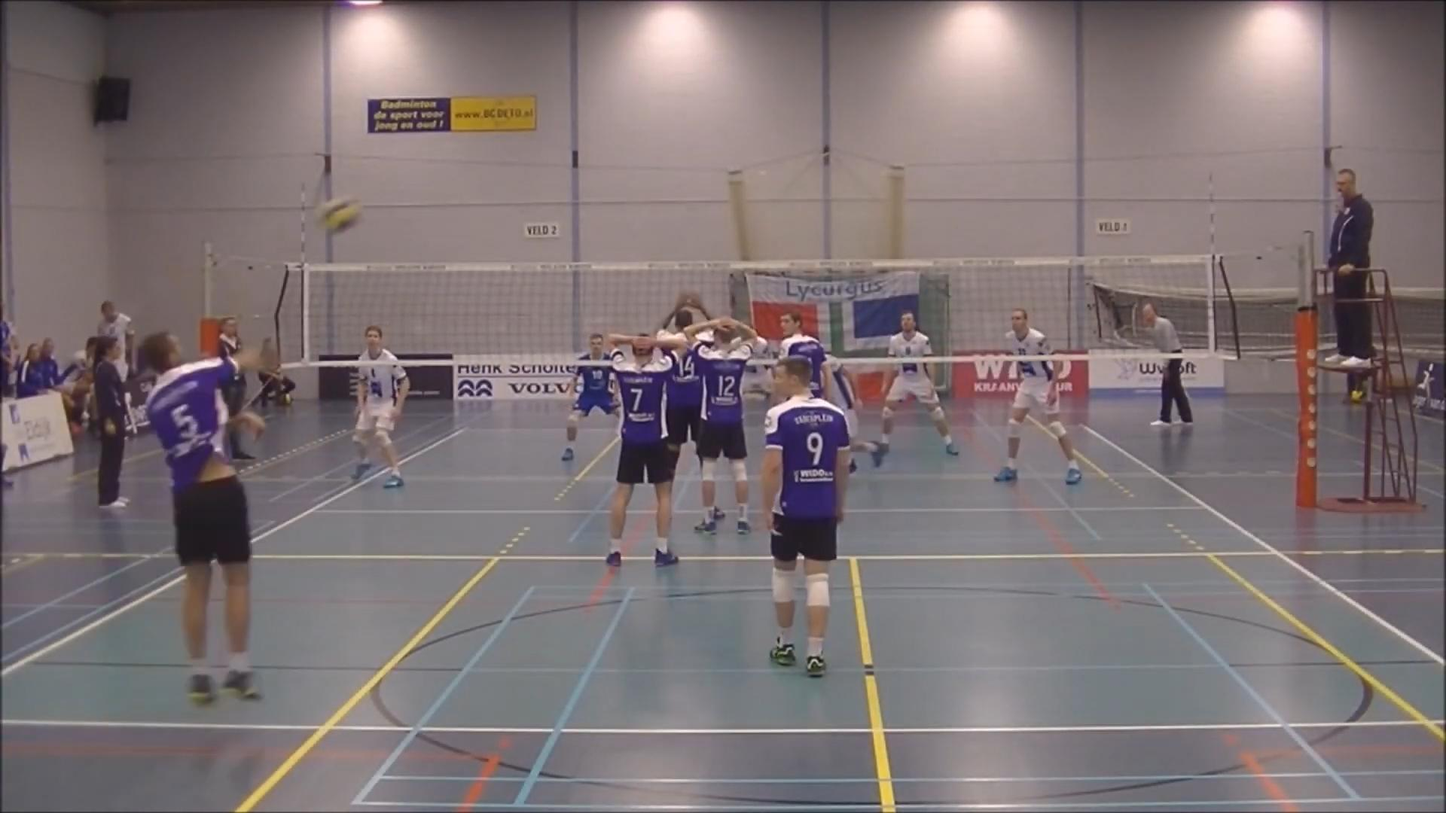battuta: (101, 323, 307, 704)
